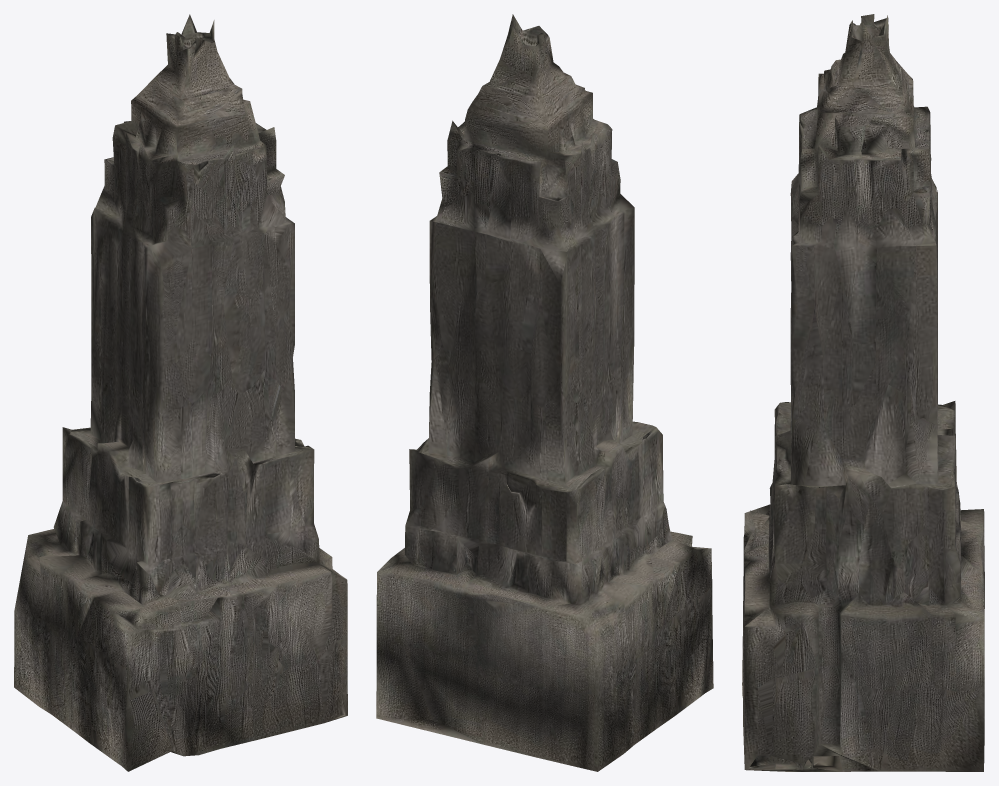
The model's file is bld3_lo.glb.
3 renders of one model, left to right at view 1: azimuth 30°, elevation 25°; view 2: azimuth 150°, elevation 25°; view 3: azimuth 270°, elevation 25°, orthographic. The views are drawn at different scales.
Visible parts, largest first — view 1: tripo_node_9c119c67-1dd0-4b7c-adce-8fce22536dcd; view 2: tripo_node_9c119c67-1dd0-4b7c-adce-8fce22536dcd; view 3: tripo_node_9c119c67-1dd0-4b7c-adce-8fce22536dcd.
Part boxes in pixels (<box>): tripo_node_9c119c67-1dd0-4b7c-adce-8fce22536dcd: <box>14,14,347,771</box>; tripo_node_9c119c67-1dd0-4b7c-adce-8fce22536dcd: <box>376,14,713,771</box>; tripo_node_9c119c67-1dd0-4b7c-adce-8fce22536dcd: <box>742,14,984,771</box>.
Size of the model in its own units: 0.3424 by 0.9995 by 0.3089.
1 material, 1 textured.
